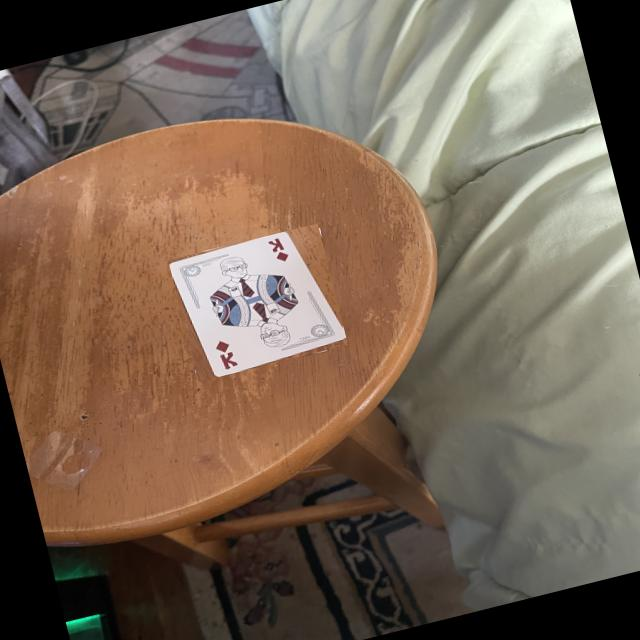King of diamonds: (170, 232, 345, 375)
